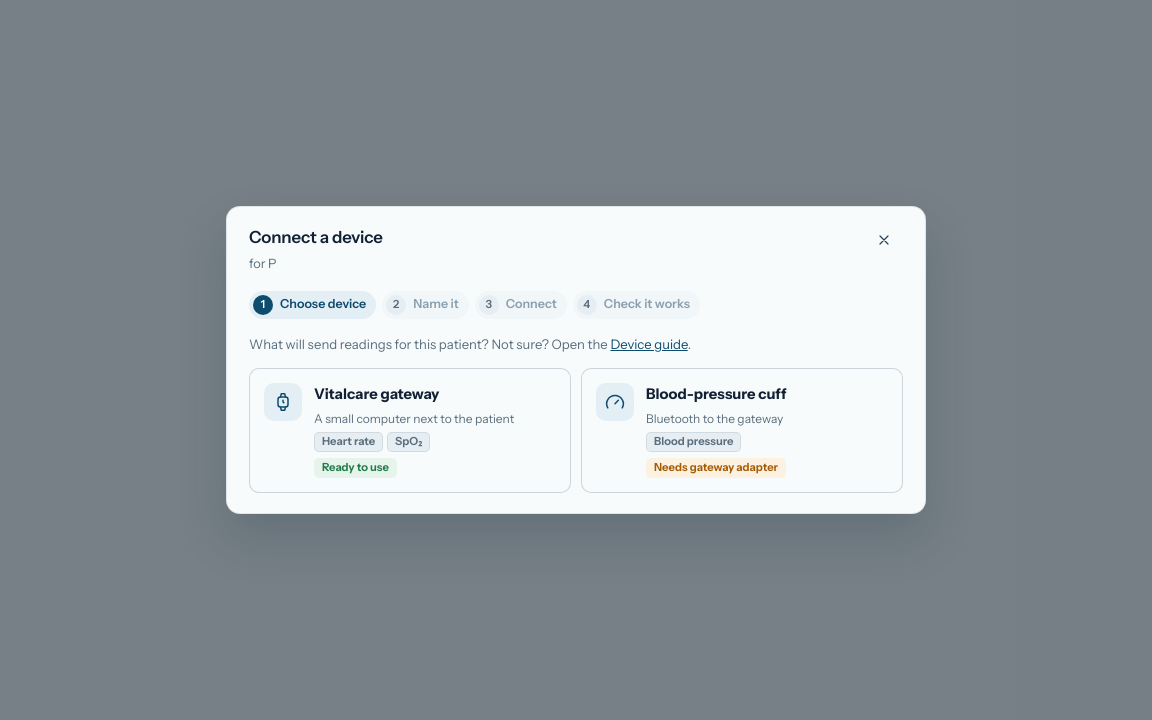
Scenario: ConnectDevice wizard › offers a new code when the old one expired
Later steps or results of the test are not shown.
What coordinates should you click on to do the following:
click the text "Blood-pressure cuff"
I would click on:
 (716, 394)
Its box is [646,386,786,404].
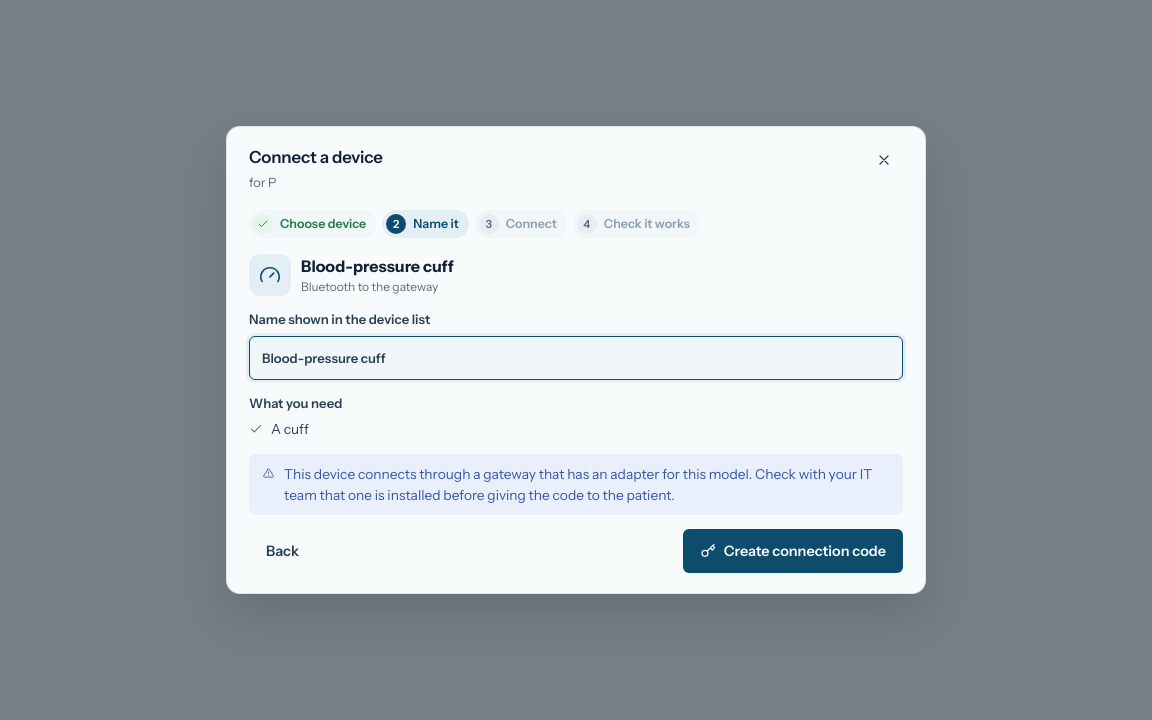
What coordinates should you click on to do the following:
click the button "Create connection code"
I would click on:
 (793, 551)
Its box is [683,529,903,573].
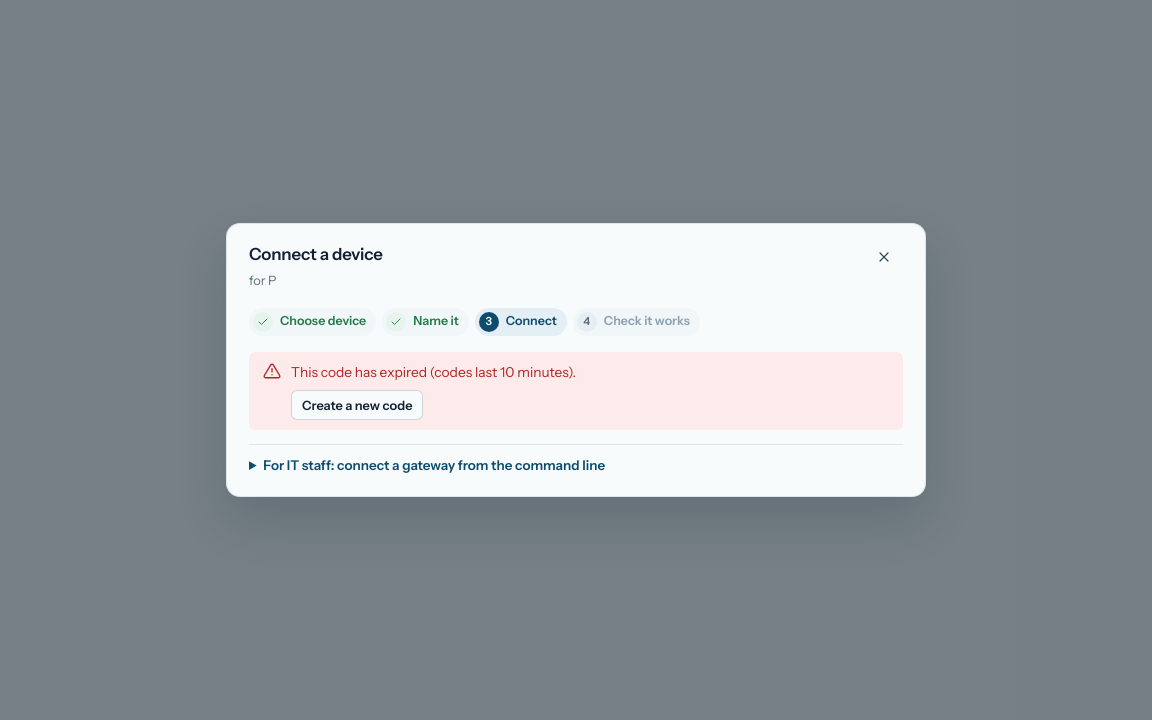
Check: the text "This code has expired" is shown, box [291,364,576,380]
Check: the button "Create a new code" is shown, box [291,390,424,420]
